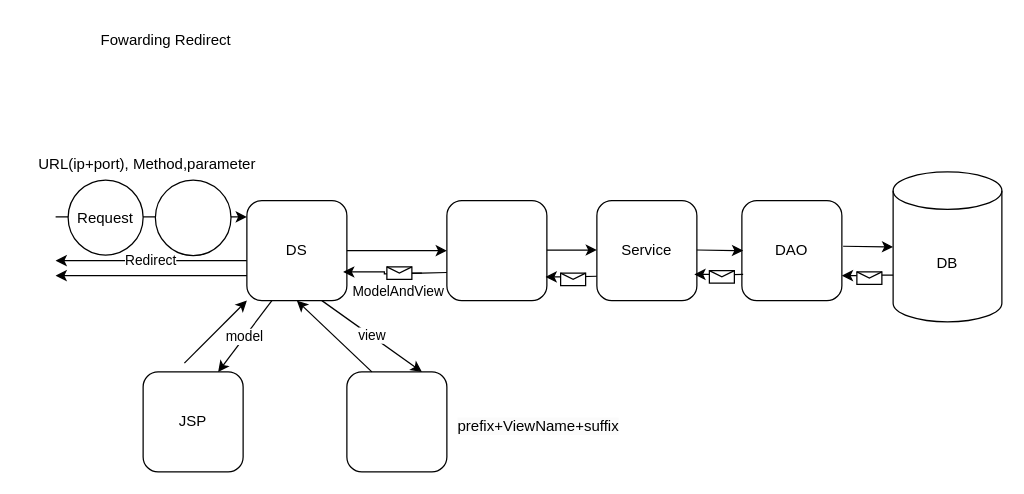
This 1024x494 diagram has some shape labels left out. The shapes that lost their labels are listed below. From the top down, each one's box as (x1, y1, x2, y2) in pixels, then its label:
(154, 179, 231, 256): Response
(446, 199, 547, 301): Controller
(346, 371, 447, 472): Internal Resource ViewResolver
